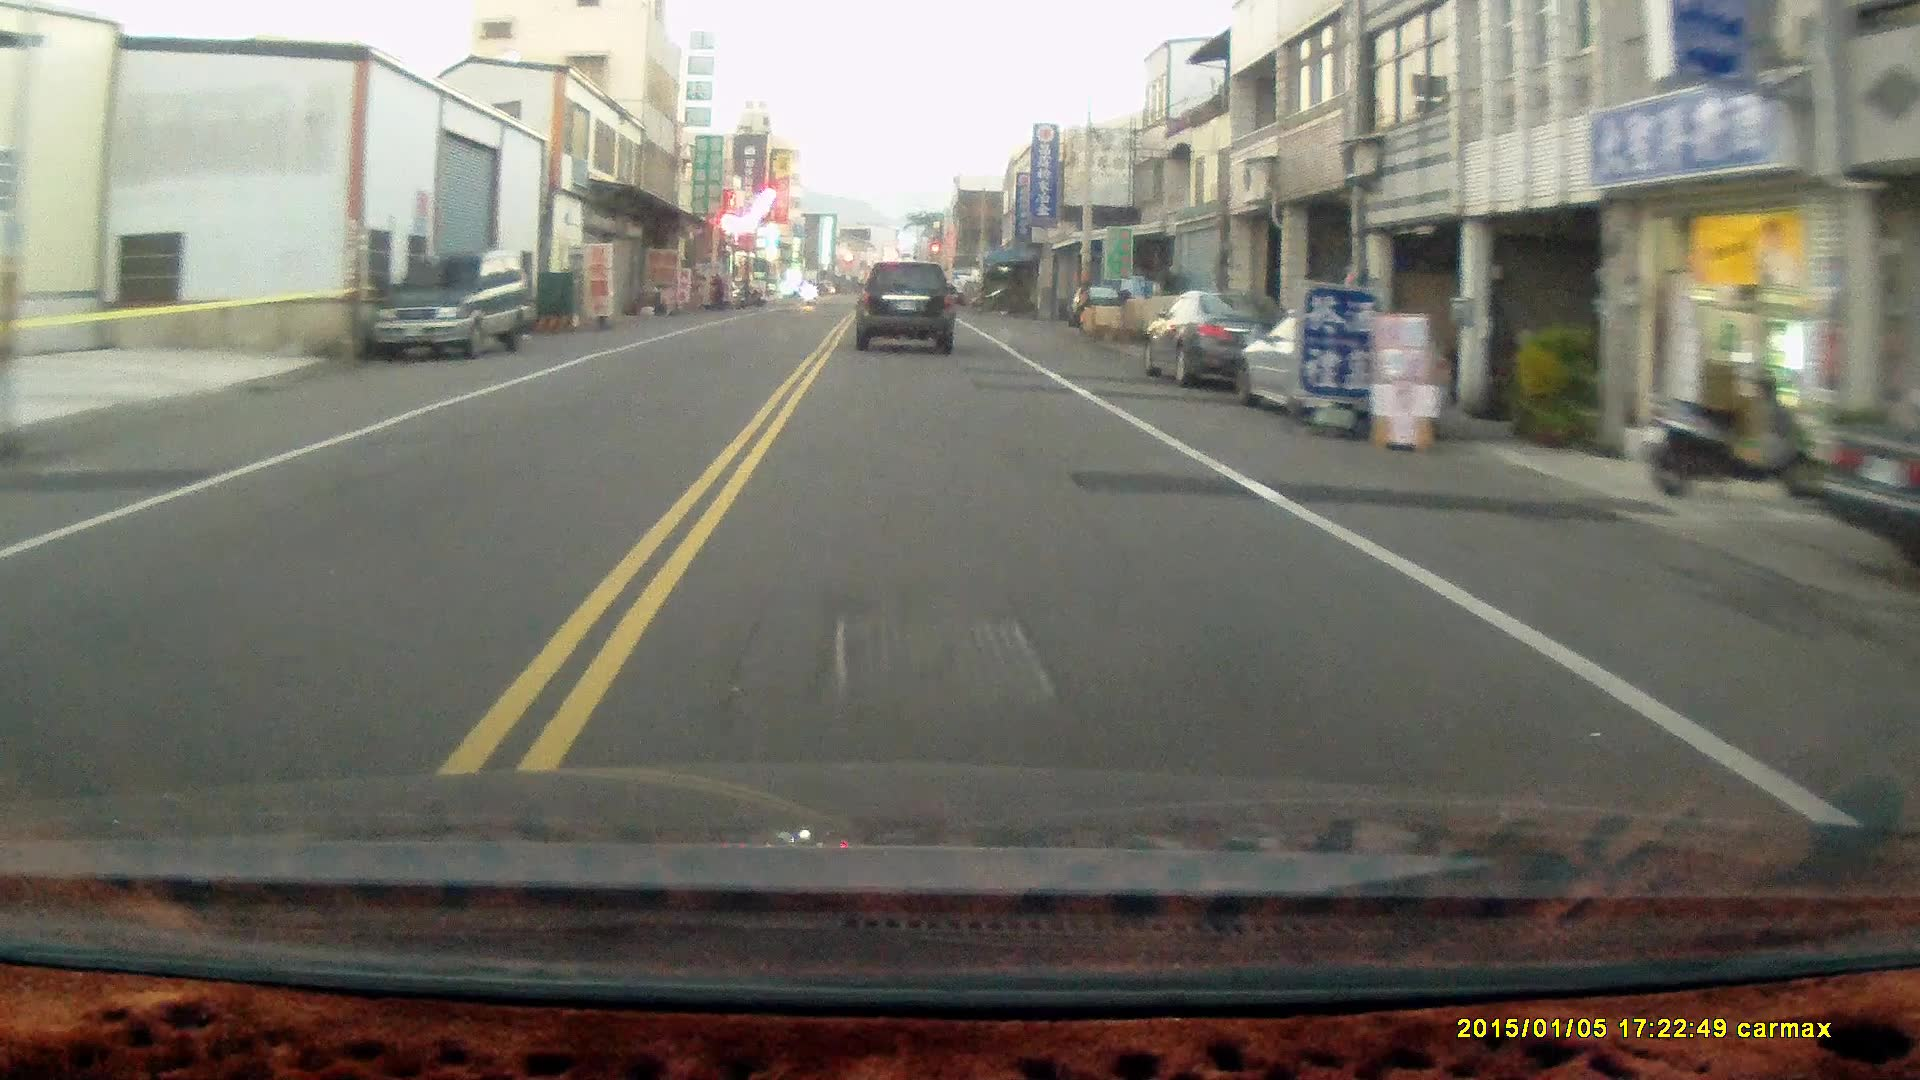vehicle: (1236, 314, 1457, 439), (369, 248, 533, 367), (1139, 294, 1302, 396), (855, 266, 957, 361)
